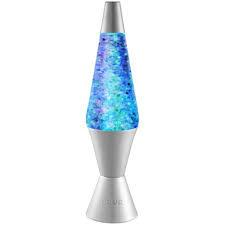Lamp: (83, 0, 139, 225)
